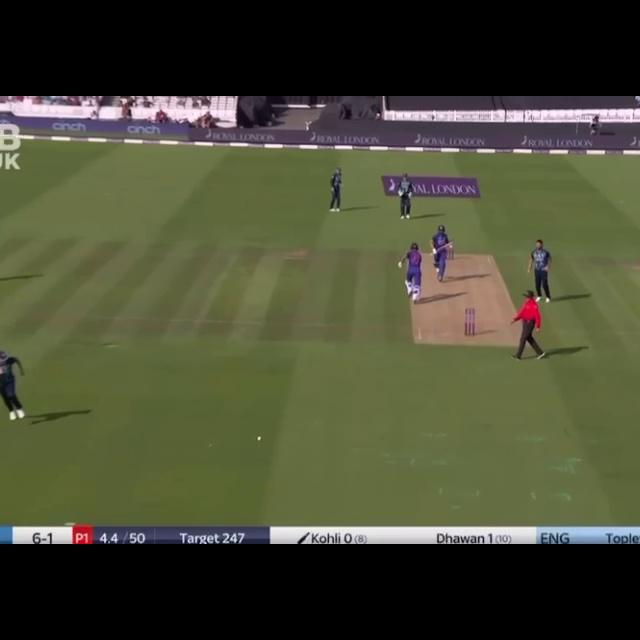umpire: (509, 286, 546, 360)
